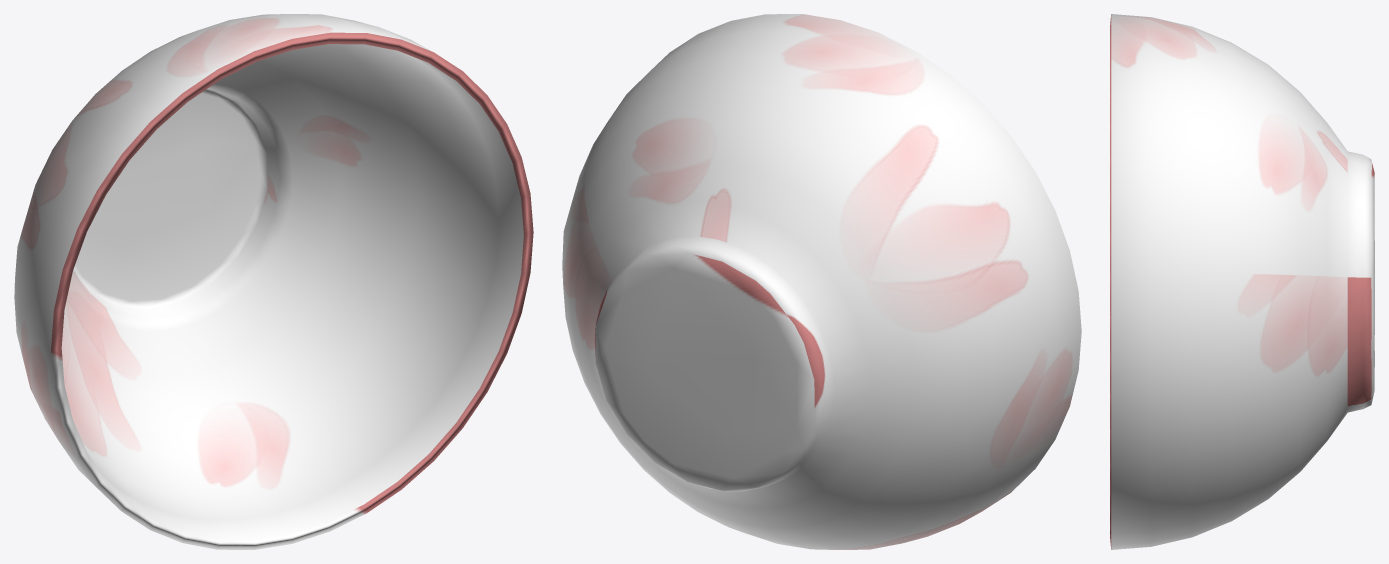
The picture shows the model from 3 angles, left to right: view 1: azimuth 30°, elevation 25°; view 2: azimuth 150°, elevation 25°; view 3: azimuth 270°, elevation 25°; orthographic projection. The views are drawn at different scales.
Bounding box in the file's own units: 1 × 1 × 0.4936.
